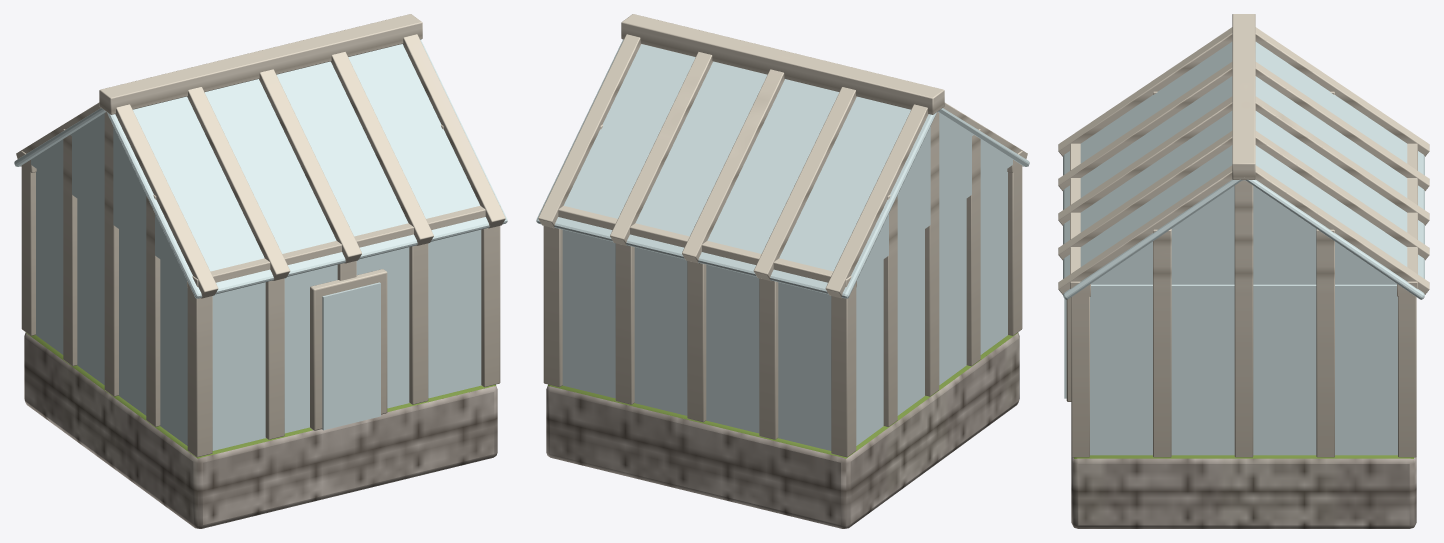
Rendered from unlock-greenhouse-xuan.glb.
The picture shows the model from 3 angles, left to right: view 1: azimuth 30°, elevation 25°; view 2: azimuth 150°, elevation 25°; view 3: azimuth 270°, elevation 25°; orthographic projection.
Visible parts, largest first — view 1: unlock-greenhouse-static; view 2: unlock-greenhouse-static; view 3: unlock-greenhouse-static.
Boxes of the visible parts, <box> form: unlock-greenhouse-static: <box>14,14,507,528</box>; unlock-greenhouse-static: <box>536,14,1029,528</box>; unlock-greenhouse-static: <box>1058,14,1429,528</box>.
Bounding box in the file's own units: 0.76 × 0.875 × 0.7963.
14 materials, 8 textured.
